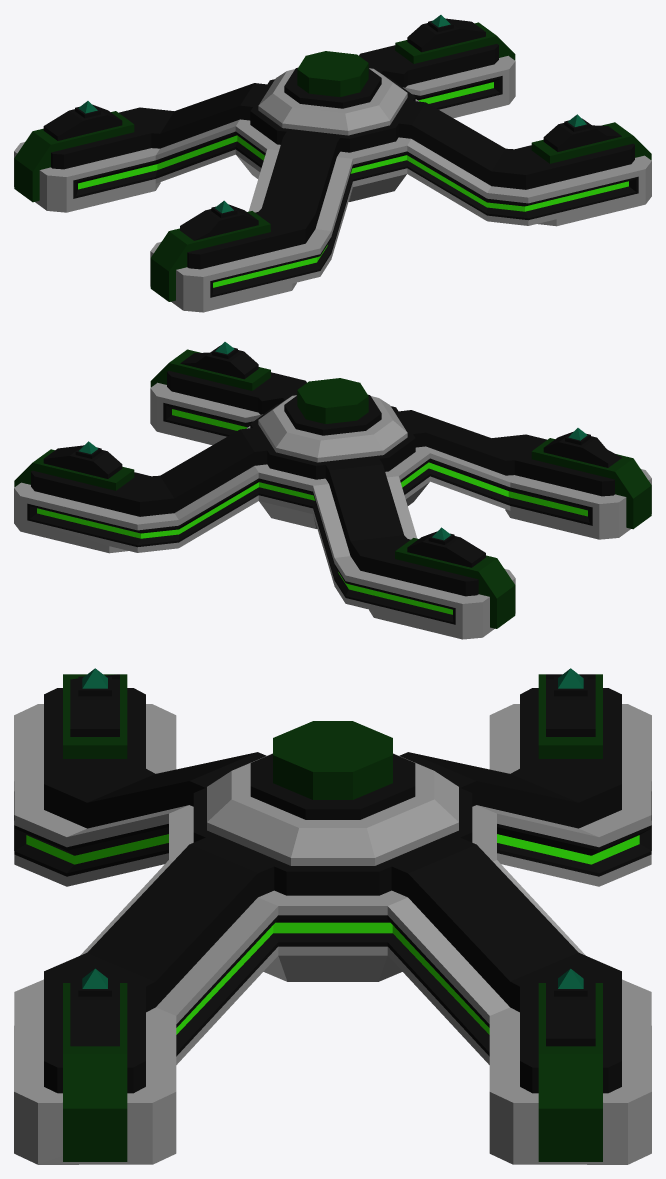
The model's file is SM_DefenseCannonChassis.FBX.
The picture shows the model from 3 angles, top to bottom: view 1: azimuth 30°, elevation 25°; view 2: azimuth 150°, elevation 25°; view 3: azimuth 270°, elevation 25°; orthographic projection. The views are drawn at different scales.
Parts seen in each view (by area): view 1: Box002; view 2: Box002; view 3: Box002.
Part boxes in pixels (bbox=[...]): Box002: bbox=[14, 15, 651, 312]; Box002: bbox=[14, 342, 651, 639]; Box002: bbox=[14, 668, 651, 1164].
Bounding box in the file's own units: 7106 × 1825 × 4666.
